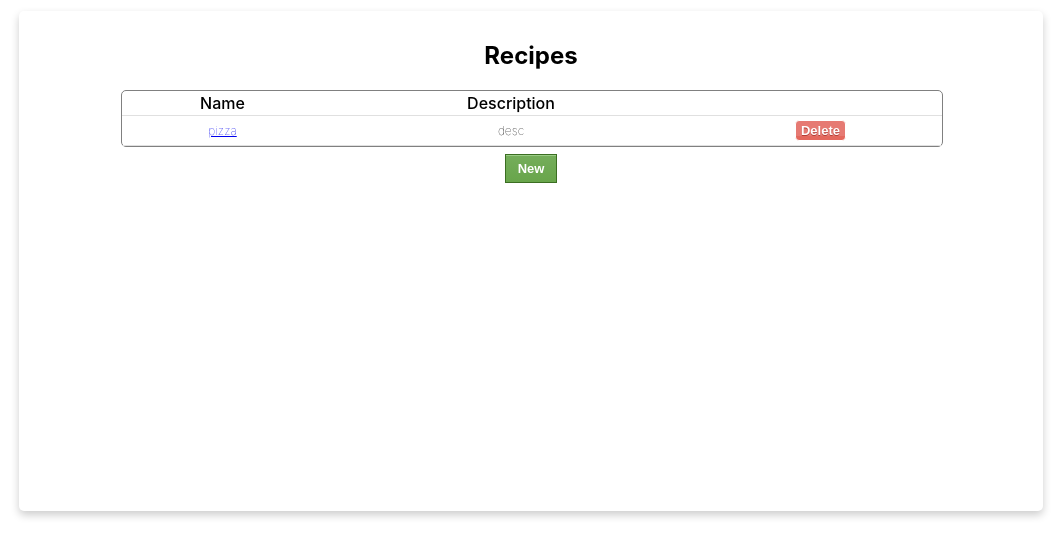
Test: must delete a recipe
Click the button "Delete" at [820, 130], box [795,120,846,141]
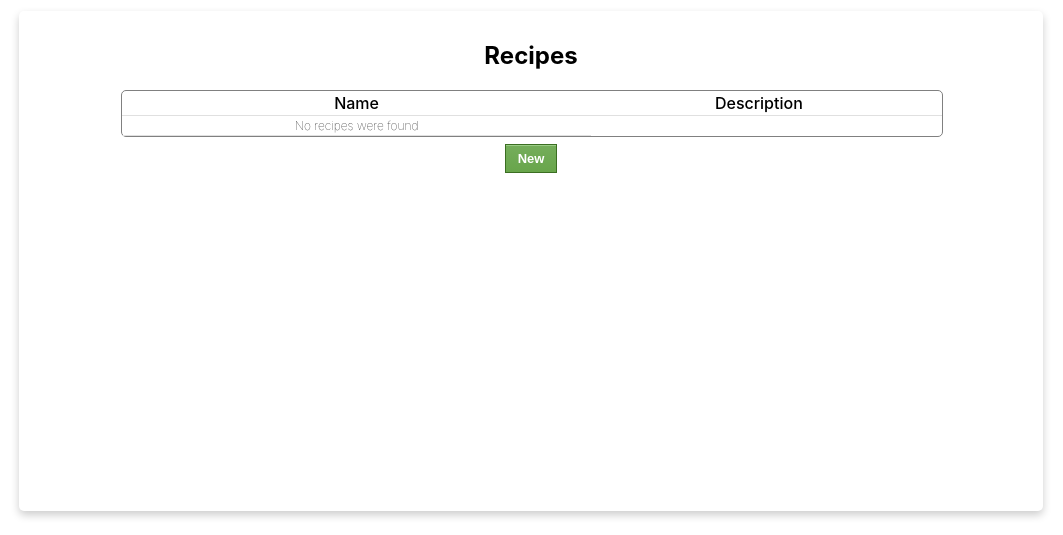
Result: the button "Delete" is gone
